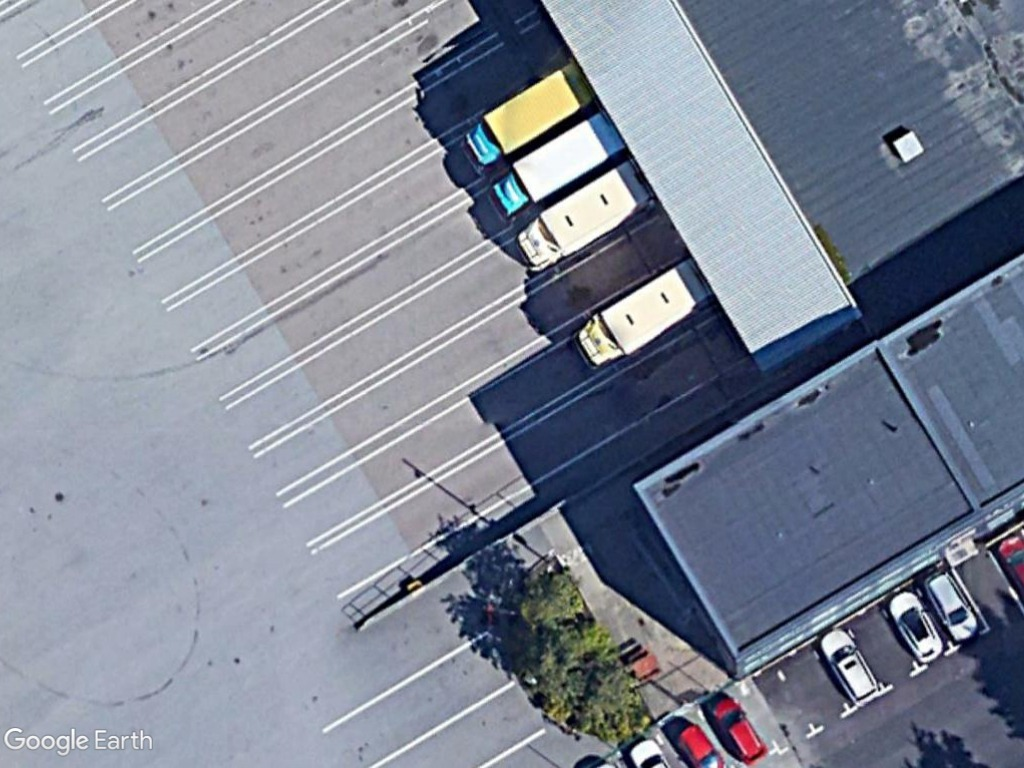car: (884, 585, 947, 668), (706, 689, 771, 768), (816, 626, 881, 703), (922, 563, 980, 645)
truck: (566, 258, 712, 378), (457, 58, 598, 182), (484, 107, 625, 227), (516, 157, 654, 275)
